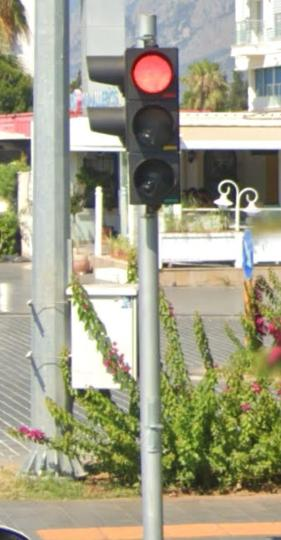redlight: (128, 46, 181, 205)
